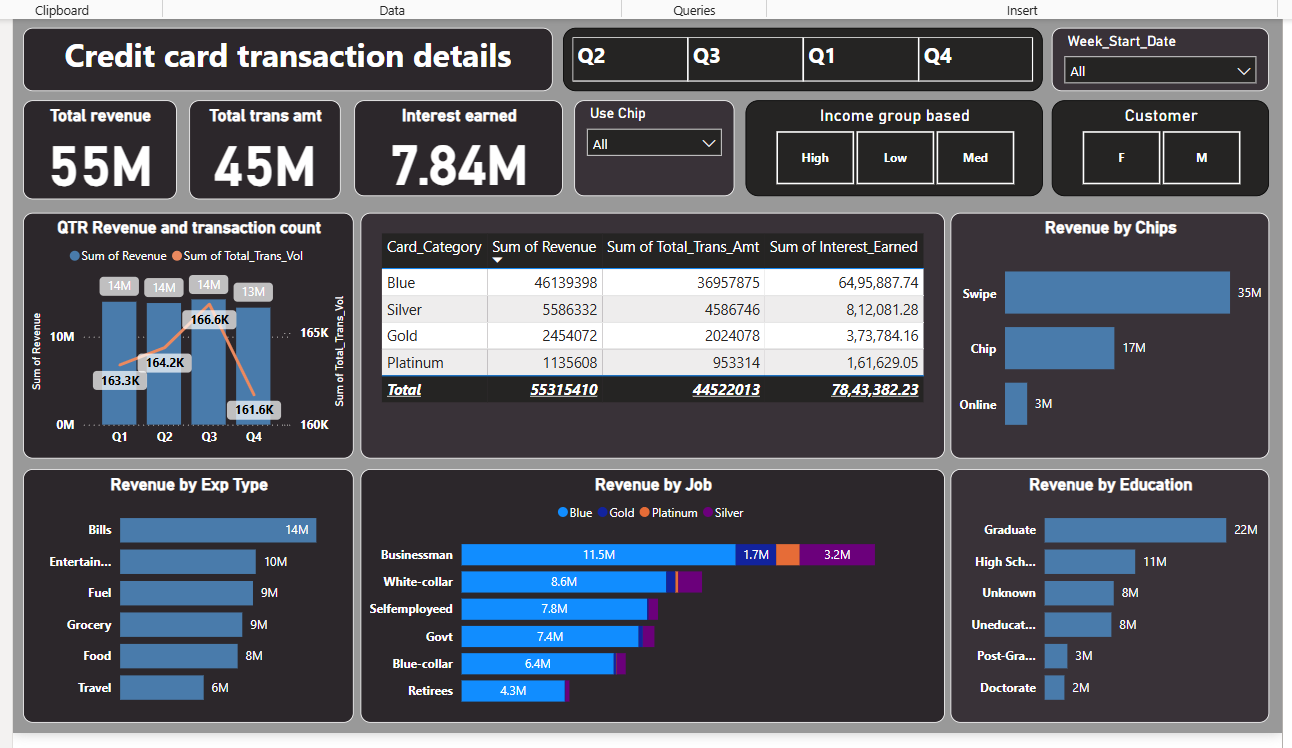

The dashboard page shown, as its layout file describes it:
{"tool":"powerbi","page":{"name":"credit_card_transaction","canvas":[1280,720],"ordinal":0},"visuals":[{"type":"textbox","box":[10.1,8.8,534.7,64.3],"z":0},{"type":"lineStackedColumnComboChart","title":"QTR Revenue and transaction count","fields":{"Category":["credit_card.Qtr"],"Y":["Sum(credit_card.Revenue)"],"Y2":["Sum(credit_card.Total_Trans_Vol)"]},"box":[10.5,195.5,333.9,248.2],"z":1000},{"type":"barChart","title":" Revenue by Exp Type","fields":{"Y":["Sum(credit_card.Revenue)"],"Category":["credit_card.Exp Type"]},"box":[10.5,454.2,333.9,255.7],"z":2000},{"type":"barChart","title":" Revenue by Education","fields":{"Y":["Sum(credit_card.Revenue)"],"Category":["customer.Education_Level"]},"box":[946.1,454.2,321.9,255.7],"z":3000},{"type":"barChart","title":" Revenue by Job","fields":{"Y":["Sum(credit_card.Revenue)"],"Category":["customer.Customer_Job"],"Series":["credit_card.Card_Category"]},"box":[350.5,454.2,589.6,255.7],"z":4000},{"type":"barChart","title":" Revenue by Chips","fields":{"Y":["Sum(credit_card.Revenue)"],"Category":["credit_card.Use Chip"]},"box":[946.1,195.5,321.9,248.2],"z":5000},{"type":"tableEx","fields":{"Values":["credit_card.Card_Category","Sum(credit_card.Revenue)","Sum(credit_card.Total_Trans_Amt)","Sum(credit_card.Interest_Earned)"]},"box":[350.5,195.5,589.6,248.2],"z":6000},{"type":"card","title":"Total revenue","fields":{"Values":["Sum(credit_card.Revenue)"]},"box":[10.1,82,155.1,99.6],"z":7000},{"type":"card","title":"Total trans amt","fields":{"Values":["Sum(credit_card.Total_Trans_Amt)"]},"box":[177.8,82,152.6,99.6],"z":8000},{"type":"card","title":"Interest earned","fields":{"Values":["Sum(credit_card.Interest_Earned)"]},"box":[344.3,82,210.6,97.1],"z":9000},{"type":"slicer","fields":{"Values":["credit_card.Week_Start_Date"]},"box":[1048,8.8,219.4,64.3],"z":10000},{"type":"treemap","fields":{"Group":["credit_card.Qtr"],"Values":["CountNonNull(credit_card.Client_Num)"]},"box":[554.9,8.8,484.3,64.3],"z":11000},{"type":"slicer","title":"Customer","fields":{"Values":["customer.Gender"]},"box":[1048,82,219.4,97.1],"z":12000},{"type":"slicer","title":"Income group based","fields":{"Values":["customer.IncomeGroup"]},"box":[739,82,300.1,97.1],"z":13000},{"type":"slicer","fields":{"Values":["credit_card.Use Chip"]},"box":[566.2,82,161.4,97.1],"z":14000}]}

Visuals, with their boxes in screenshot pixels (x1, y1, x2, y2):
textbox: Rect(17, 22, 549, 86)
"QTR Revenue and transaction count" lineStackedColumnComboChart: Rect(17, 208, 350, 455)
" Revenue by Exp Type" barChart: Rect(17, 466, 350, 720)
" Revenue by Education" barChart: Rect(948, 466, 1269, 720)
" Revenue by Job" barChart: Rect(356, 466, 943, 720)
" Revenue by Chips" barChart: Rect(948, 208, 1269, 455)
tableEx - credit_card.Card_Category x Sum(credit_card.Revenue): Rect(356, 208, 943, 455)
"Total revenue" card: Rect(17, 95, 171, 194)
"Total trans amt" card: Rect(184, 95, 336, 194)
"Interest earned" card: Rect(349, 95, 559, 192)
slicer - credit_card.Week_Start_Date: Rect(1050, 22, 1268, 86)
treemap - credit_card.Qtr x CountNonNull(credit_card.Client_Num): Rect(559, 22, 1041, 86)
"Customer" slicer: Rect(1050, 95, 1268, 192)
"Income group based" slicer: Rect(742, 95, 1041, 192)
slicer - credit_card.Use Chip: Rect(570, 95, 731, 192)
